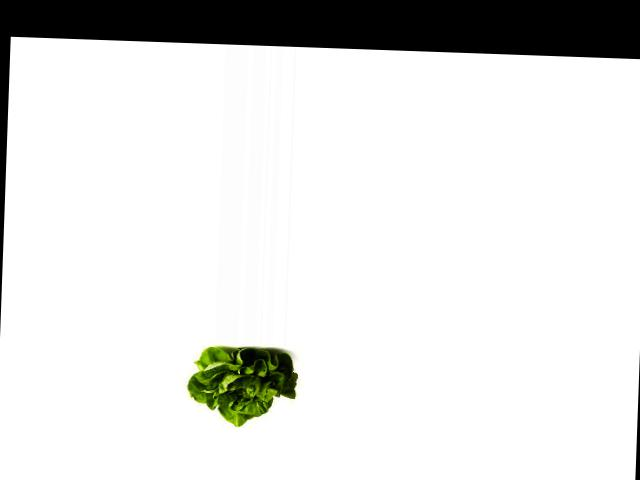lettuce: (182, 344, 300, 427)
